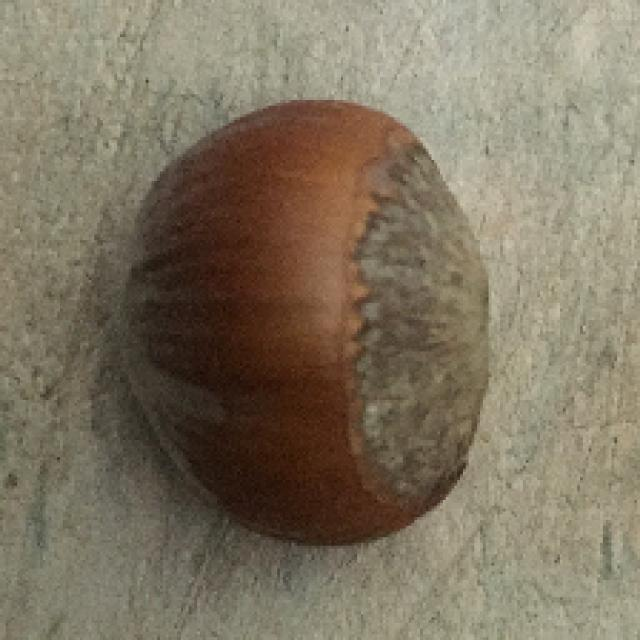qualityHazelnut: (103, 97, 502, 547)
